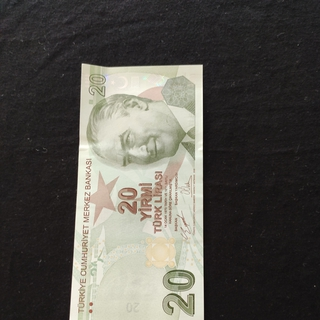20TLFront: (66, 62, 207, 320)
